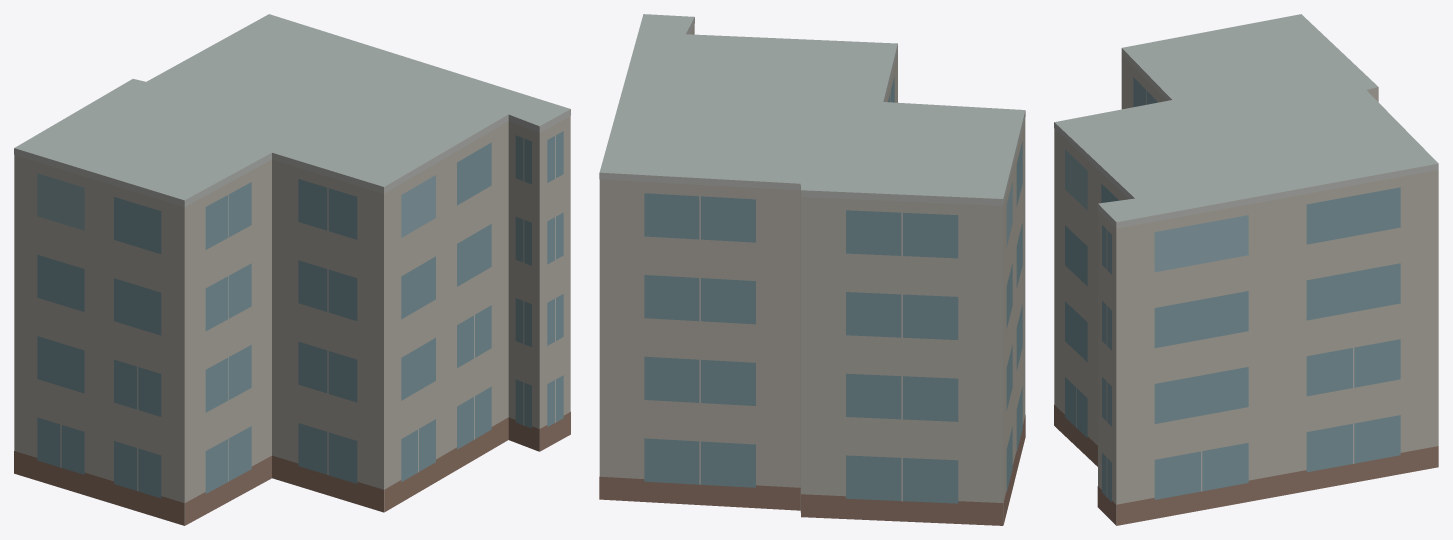
File: survey-upis-32878523.glb
3 renders of one model, left to right at view 1: azimuth 30°, elevation 25°; view 2: azimuth 150°, elevation 25°; view 3: azimuth 270°, elevation 25°, orthographic. The views are drawn at different scales.
Visible parts, largest first — view 1: survey-upis-32878523.tmp; view 2: survey-upis-32878523.tmp; view 3: survey-upis-32878523.tmp.
Part boxes in pixels (box(x1,y1,x2,y2)): survey-upis-32878523.tmp: box(14, 14, 570, 525); survey-upis-32878523.tmp: box(599, 14, 1025, 525); survey-upis-32878523.tmp: box(1054, 14, 1438, 525).
Size of the model in its own units: 17.37 by 11.8 by 13.55.
